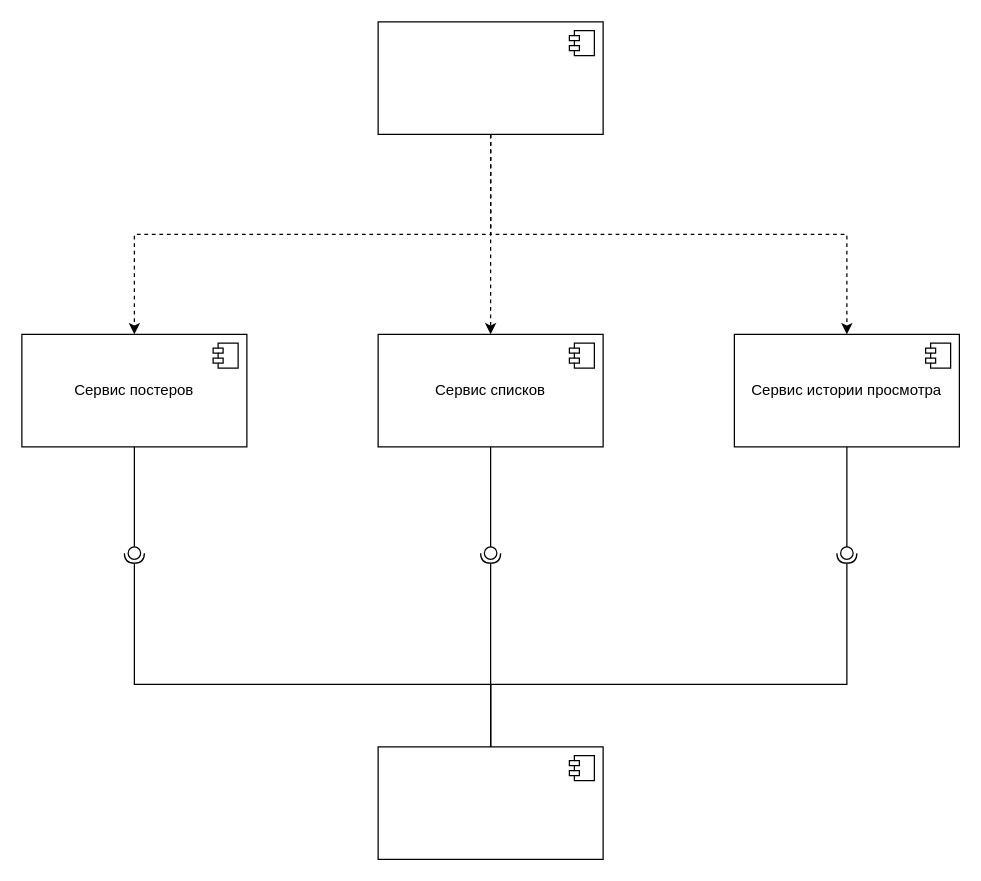
The diagram is 981 pixels wide and 881 high, and some of its shapes have lost their labels. The centre of each missing label's shape, as x and y in pixels:
"Компонент доступа к данным" goes at (490,802).
"Компонент транспортного уровня" goes at (490,77).
